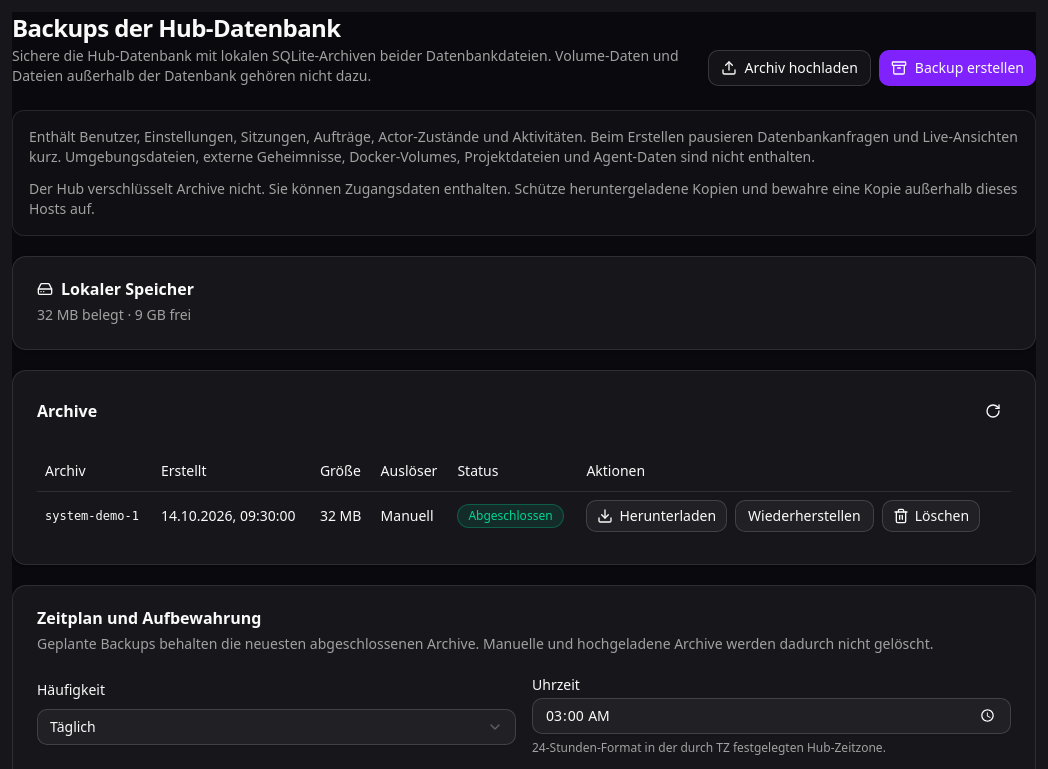
Hub database backup page › shows actionable text for backup.maintenance
Expected: the text "system-demo-1" is shown, [37,491,153,540]
Click the button "Backup erstellen".
click(957, 68)  # box [879,50,1036,86]
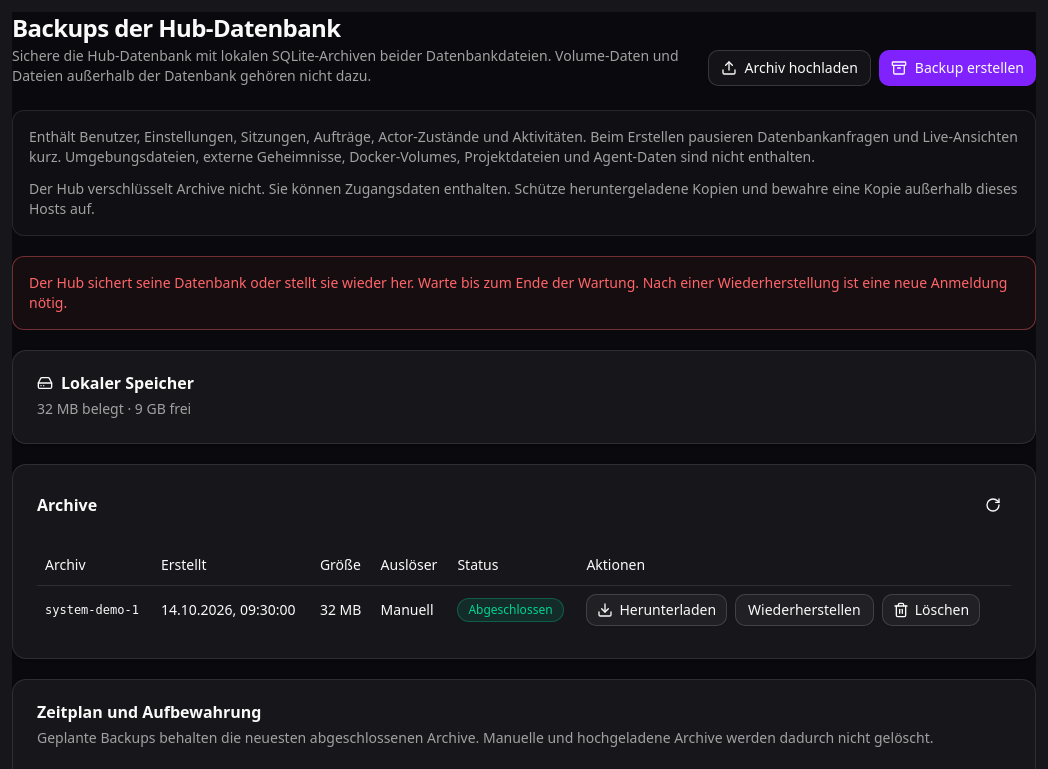
Result: the message shows "Der Hub sichert seine Datenbank oder stellt sie wieder her. Warte bis zum Ende der Wartung. Nach einer Wiederherstellung ist eine neue Anmeldung nötig." at [29,273,1007,312]
